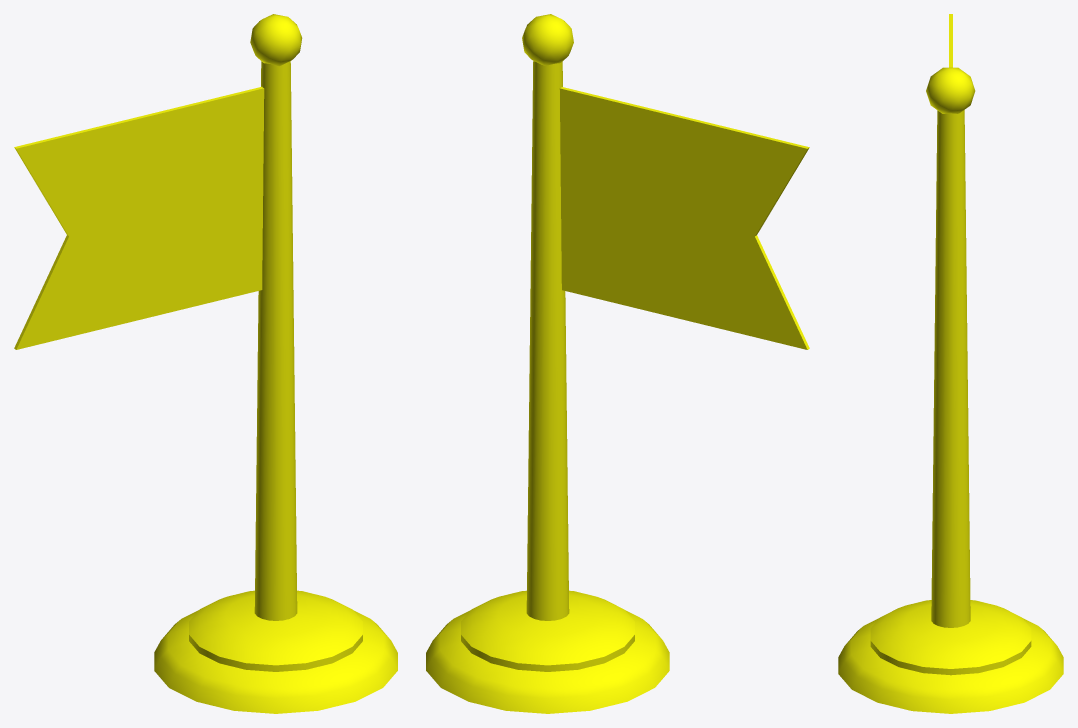
File: flag.glb
The picture shows the model from 3 angles, left to right: view 1: azimuth 30°, elevation 25°; view 2: azimuth 150°, elevation 25°; view 3: azimuth 270°, elevation 25°; orthographic projection. The views are drawn at different scales.
Parts seen in each view (by area): view 1: flag; view 2: flag; view 3: flag.
Part boxes in pixels (x1,y1,x2,y2): flag: [14, 14, 397, 713]; flag: [426, 14, 809, 713]; flag: [838, 14, 1063, 713].
Bounding box in the file's own units: 1.3 × 2.18 × 0.7471.
1 material, 1 textured.
